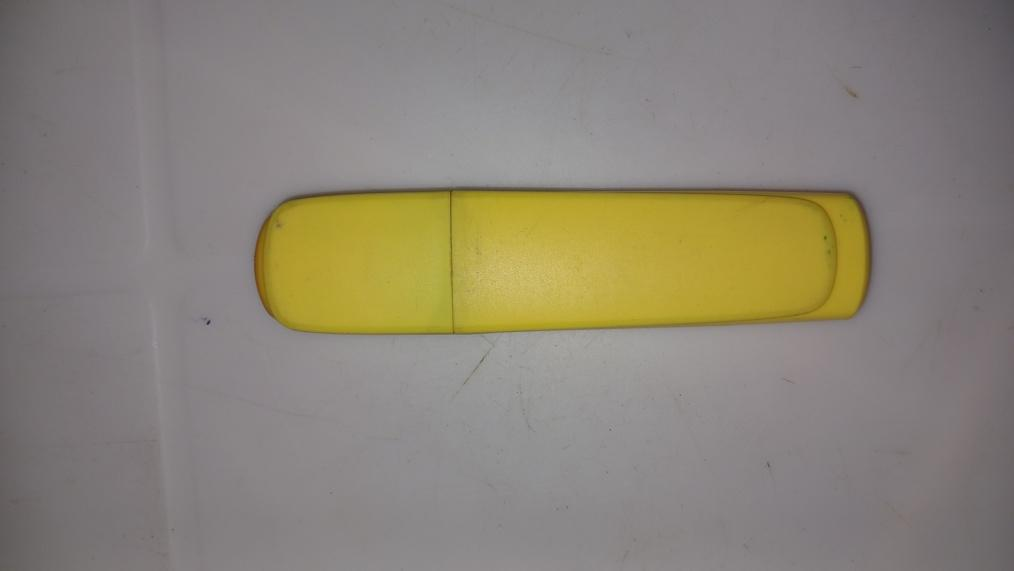Highlighter: (260, 187, 872, 330)
